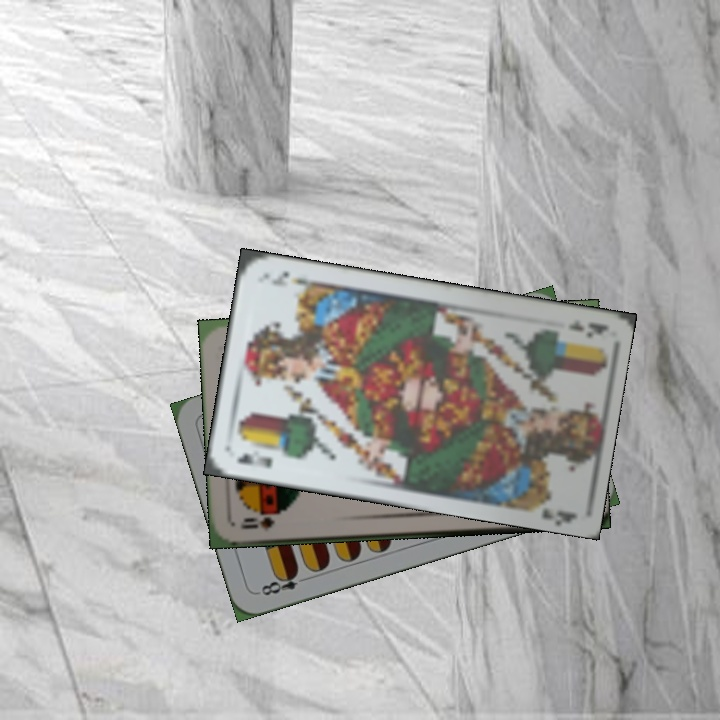E8: (257, 566, 312, 598)
EK: (564, 316, 608, 340), (234, 449, 276, 471)
SO: (237, 509, 283, 534)
